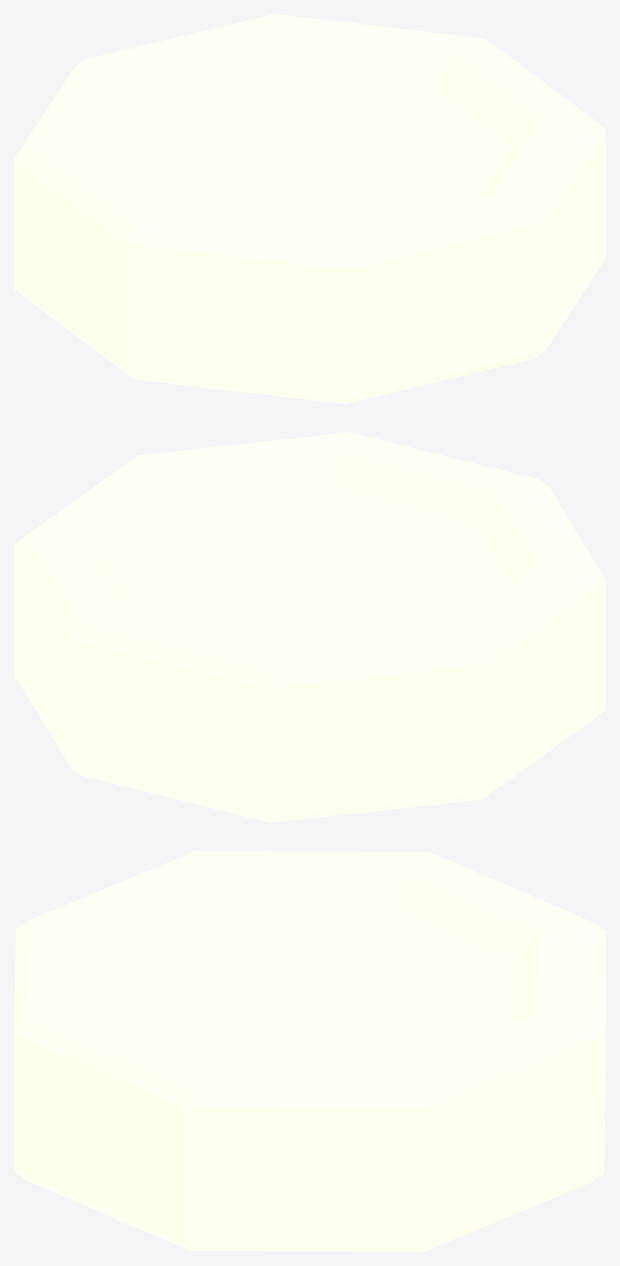
The model's file is coin_gold.gltf.
3 renders of one model, top to bottom at view 1: azimuth 30°, elevation 25°; view 2: azimuth 150°, elevation 25°; view 3: azimuth 270°, elevation 25°, orthographic. The views are drawn at different scales.
Parts seen in each view (by area): view 1: coin; view 2: coin; view 3: coin.
Boxes of the visible parts, bbox=[...] form: coin: bbox=[14, 14, 605, 403]; coin: bbox=[14, 432, 605, 822]; coin: bbox=[14, 851, 605, 1251].
Bounding box in the file's own units: 3.32 × 1 × 3.32.
Materials: 1 (1 with a texture image).
